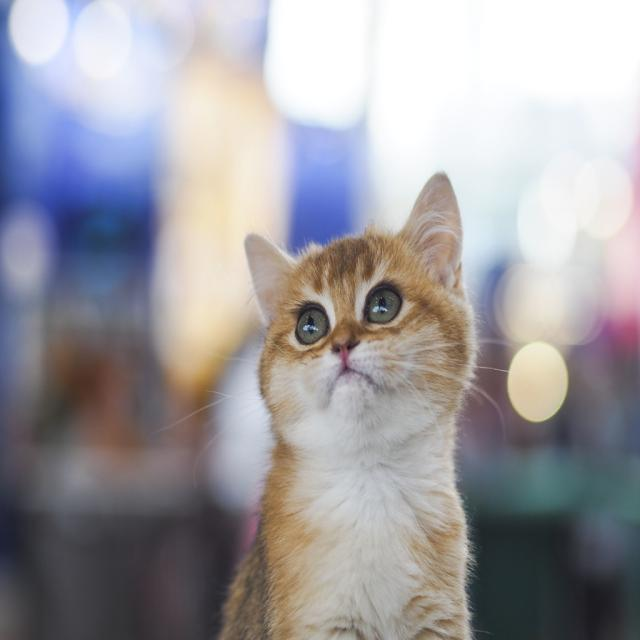Cat: (182, 172, 505, 638)
